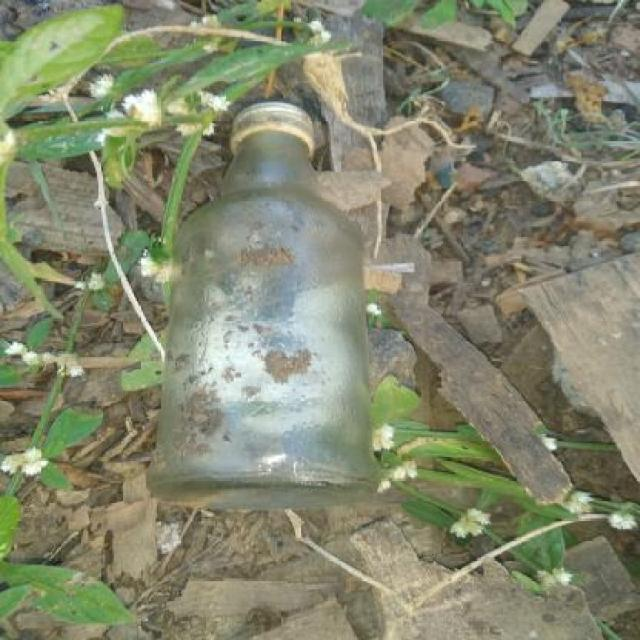garbage: (57, 131, 544, 496)
